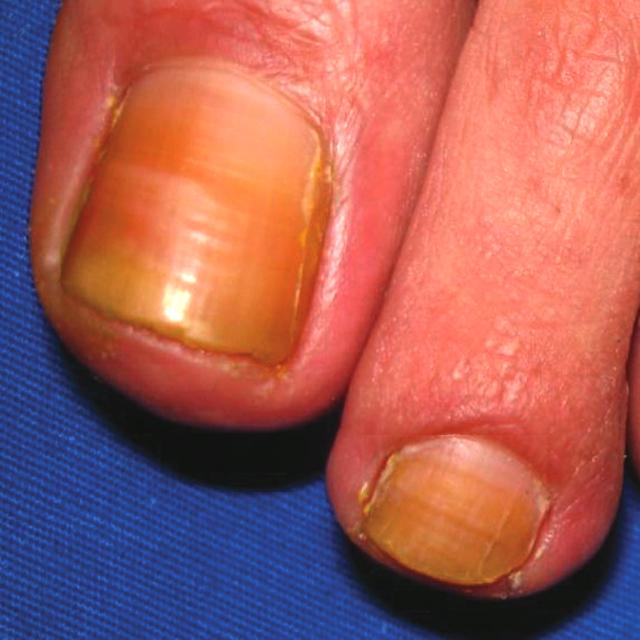diabetes: (62, 67, 327, 364), (363, 436, 547, 580)
